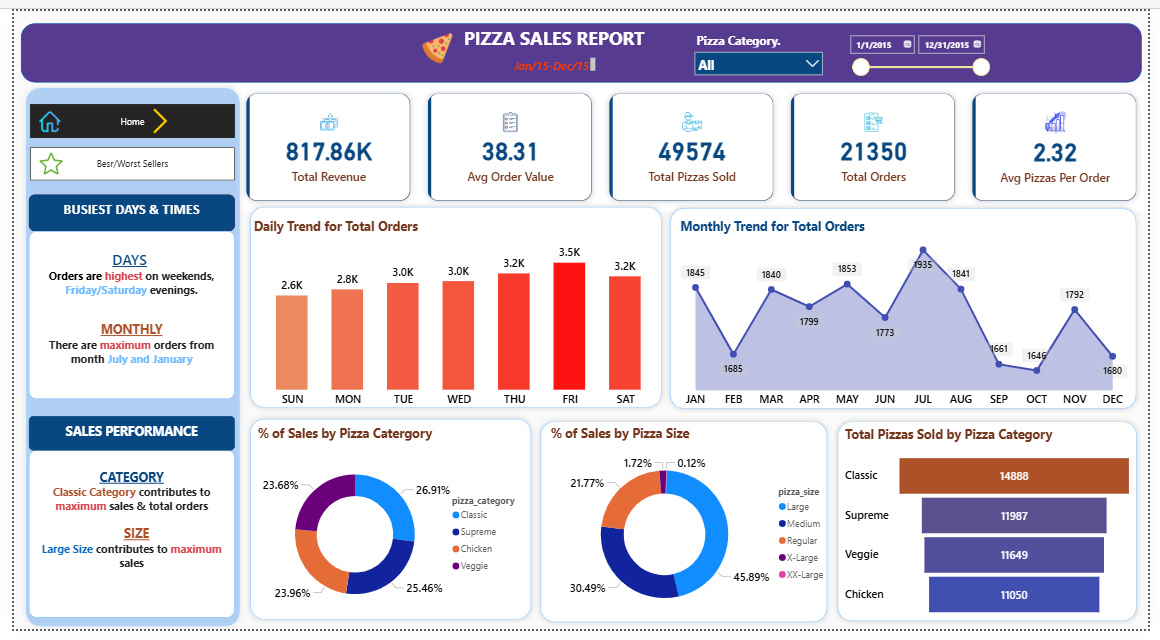

What the dashboard file says about the page in this screenshot:
{"tool":"powerbi","page":{"name":"Home","canvas":[1680,915],"ordinal":0},"visuals":[{"type":"cardVisual","fields":{"Data":["pizza_db pizza_sales.Total Revenue","pizza_db pizza_sales.Avg Order Value","pizza_db pizza_sales.Total Pizzas Sold","pizza_db pizza_sales.Total Orders","pizza_db pizza_sales.Avg Pizzas Per Order"]},"box":[327.1,105.1,1352.5,191.5],"z":0},{"type":"shape","box":[10.2,18.6,1661,88.1],"z":1000},{"type":"textbox","box":[645,15,308.3,48.3],"z":2000},{"type":"textbox","box":[735,63.3,130,30],"z":3000},{"type":"image","box":[598.3,31.7,58.3,46.7],"z":4000},{"type":"shape","box":[342.4,281.4,625.4,313.6],"z":5000},{"type":"columnChart","title":"Daily Trend for Total Orders","fields":{"Category":["pizza_db pizza_sales.Order Day"],"Y":["pizza_db pizza_sales.Total Orders"]},"box":[349.2,305.1,618.6,289.8],"z":6000},{"type":"shape","box":[964.4,283.1,706.8,313.6],"z":7000},{"type":"areaChart","title":"Monthly Trend for Total Orders","fields":{"Category":["pizza_db pizza_sales.Order Month"],"Y":["pizza_db pizza_sales.Total Orders"]},"box":[981.4,305.1,672.9,289.8],"z":8000},{"type":"shape","box":[342.4,596.6,432.2,313.6],"z":9000},{"type":"shape","box":[771.2,600,440.7,313.6],"z":10000},{"type":"shape","box":[1211.9,600,459.3,311.9],"z":11000},{"type":"donutChart","title":"% of Sales by Pizza Catergory","fields":{"Category":["pizza_db pizza_sales.pizza_category"],"Y":["pizza_db pizza_sales.Total Revenue"]},"box":[355.9,611.9,406.8,301.7],"z":12000},{"type":"donutChart","title":"% of Sales by Pizza Size","fields":{"Category":["pizza_db pizza_sales.pizza_size"],"Y":["pizza_db pizza_sales.Total Revenue"]},"box":[789.8,611.9,427.1,301.7],"z":13000},{"type":"funnel","title":"Total Pizzas Sold by Pizza Category","fields":{"Category":["pizza_db pizza_sales.pizza_category"],"Y":["pizza_db pizza_sales.Total Pizzas Sold"]},"box":[1225.4,613.6,435.6,300],"z":14000},{"type":"shape","box":[10.2,105.1,332.2,813.6],"z":15000},{"type":"textbox","box":[22,284.7,305.1,40.7],"z":16000},{"type":"textbox","box":[22,325.4,305.1,249.2],"z":17000},{"type":"textbox","box":[22,650.8,305.1,249.2],"z":18000},{"type":"textbox","box":[22,611.9,305.1,39],"z":19000},{"type":"slicer","fields":{"Values":["pizza_db pizza_sales.pizza_category"]},"box":[998.6,25,209.7,80.6],"z":20000},{"type":"slicer","fields":{"Values":["pizza_db pizza_sales.order_date"]},"box":[1226.4,25,227.8,80.6],"z":21000},{"type":"pageNavigator","box":[23.7,137.3,303.4,50.8],"z":22000},{"type":"image","box":[194,144,45,38],"z":23000},{"type":"pageNavigator","box":[23.7,201.7,303.4,49.2],"z":24000},{"type":"image","box":[24,147,59,32],"z":25000},{"type":"image","box":[37,206,34,40],"z":26000}]}

Visuals, with their boxes in screenshot pixels (x1, y1, x2, y2), scaled from the page's 1680x915 canvas onto the 1160x640 screenshot:
cardVisual - pizza_db pizza_sales.Total Revenue x pizza_db pizza_sales.Avg Order Value: box=[226, 74, 1159, 207]
shape: box=[7, 13, 1154, 75]
textbox: box=[445, 10, 658, 44]
textbox: box=[508, 44, 597, 65]
image: box=[413, 22, 453, 55]
shape: box=[236, 197, 668, 416]
"Daily Trend for Total Orders" columnChart: box=[241, 213, 668, 416]
shape: box=[666, 198, 1154, 417]
"Monthly Trend for Total Orders" areaChart: box=[678, 213, 1142, 416]
shape: box=[236, 417, 535, 637]
shape: box=[532, 420, 837, 639]
shape: box=[837, 420, 1154, 638]
"% of Sales by Pizza Catergory" donutChart: box=[246, 428, 527, 639]
"% of Sales by Pizza Size" donutChart: box=[545, 428, 840, 639]
"Total Pizzas Sold by Pizza Category" funnel: box=[846, 429, 1147, 639]
shape: box=[7, 74, 236, 639]
textbox: box=[15, 199, 226, 228]
textbox: box=[15, 228, 226, 402]
textbox: box=[15, 455, 226, 630]
textbox: box=[15, 428, 226, 455]
slicer - pizza_db pizza_sales.pizza_category: box=[690, 17, 834, 74]
slicer - pizza_db pizza_sales.order_date: box=[847, 17, 1004, 74]
pageNavigator: box=[16, 96, 226, 132]
image: box=[134, 101, 165, 127]
pageNavigator: box=[16, 141, 226, 175]
image: box=[17, 103, 57, 125]
image: box=[26, 144, 49, 172]
